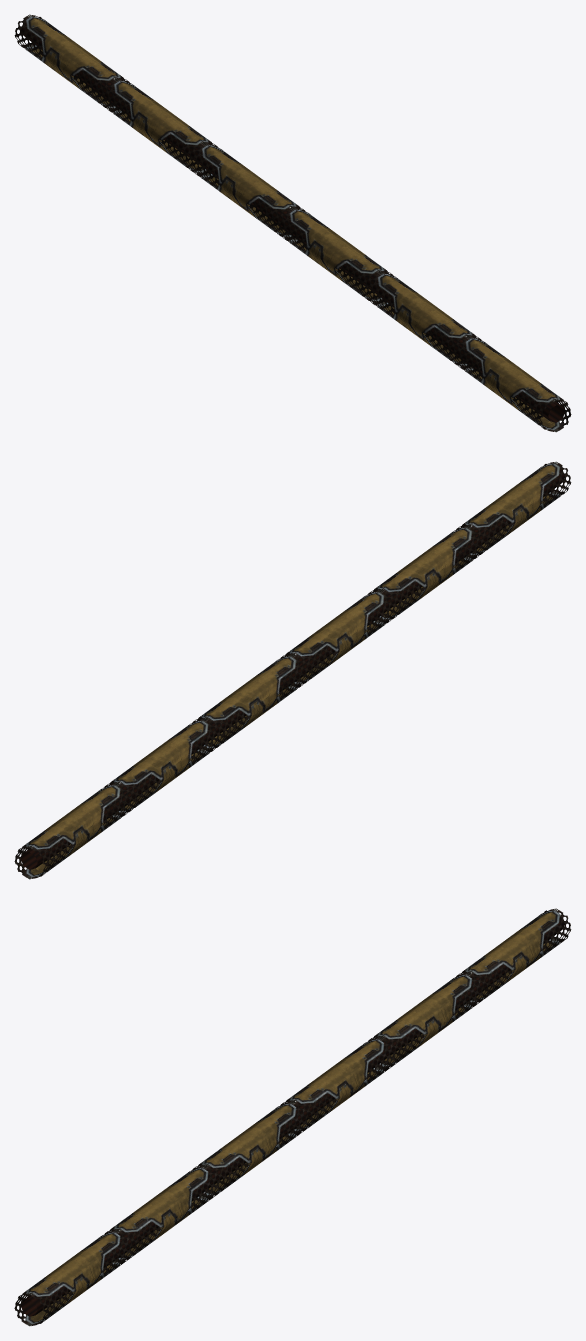
File: fibreoptic_cable_red.dae
The picture shows the model from 3 angles, top to bottom: view 1: azimuth 30°, elevation 25°; view 2: azimuth 150°, elevation 25°; view 3: azimuth 330°, elevation 25°; orthographic projection.
Visible parts, largest first — view 1: polySurface1, pCylinder2, polySurface2; view 2: polySurface1, pCylinder2, polySurface2; view 3: polySurface1, pCylinder2, polySurface2.
Boxes of the visible parts, x1,y1,x2,y2 form: polySurface1: [14, 14, 571, 432]; pCylinder2: [21, 23, 564, 422]; polySurface2: [21, 44, 570, 431]; polySurface1: [14, 461, 571, 879]; pCylinder2: [21, 470, 564, 869]; polySurface2: [15, 491, 564, 878]; polySurface1: [14, 908, 571, 1326]; pCylinder2: [21, 917, 564, 1316]; polySurface2: [15, 938, 565, 1325].
Bounding box in the file's own units: 0.1337 × 0.1337 × 4.
